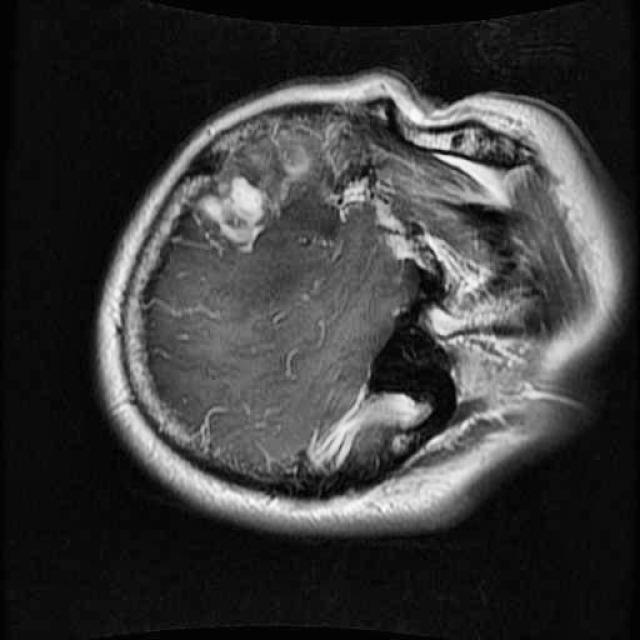Non-Tumor: (186, 169, 281, 264)
